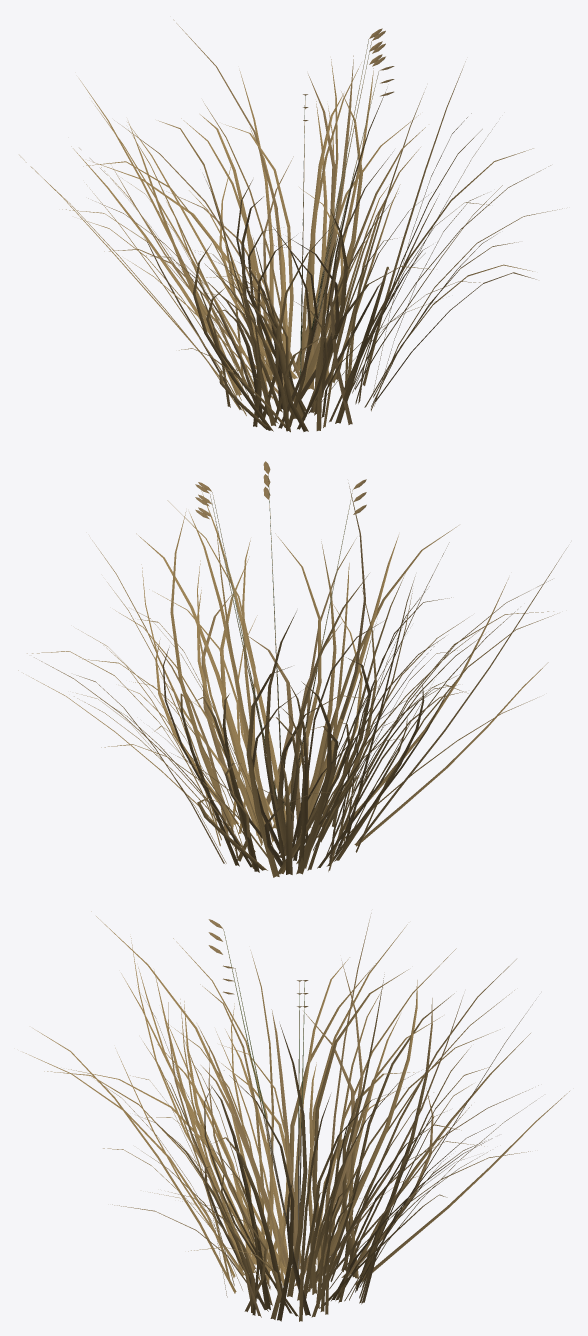
File: SM_CN_Grass_A.fbx
The picture shows the model from 3 angles, top to bottom: view 1: azimuth 30°, elevation 25°; view 2: azimuth 150°, elevation 25°; view 3: azimuth 270°, elevation 25°; orthographic projection.
Visible parts, largest first — view 1: SM_CN_Grass_A; view 2: SM_CN_Grass_A; view 3: SM_CN_Grass_A.
Boxes of the visible parts, box(x1,y1,x2,y2) form: SM_CN_Grass_A: box(19, 19, 562, 432); SM_CN_Grass_A: box(18, 461, 567, 877); SM_CN_Grass_A: box(23, 911, 569, 1321).
Size of the model in its own units: 0.5573 by 0.62 by 0.43.
